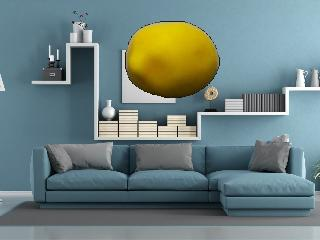lemon: (123, 17, 223, 100)
